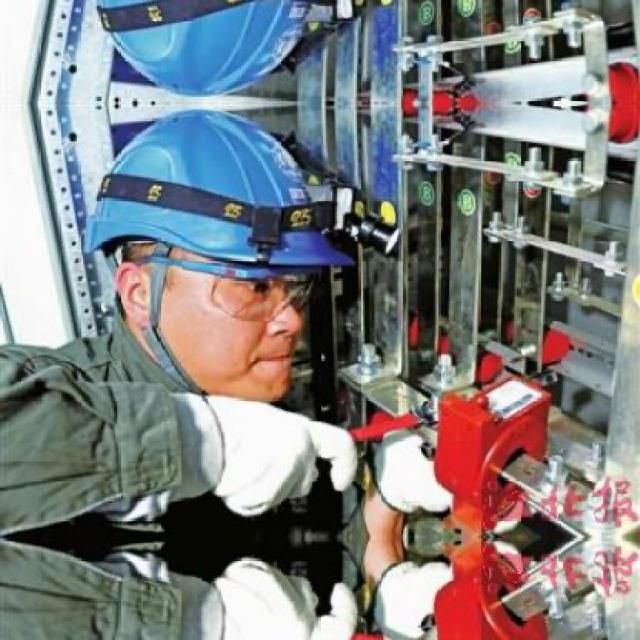helmet: (76, 119, 327, 428), (74, 0, 326, 86)
